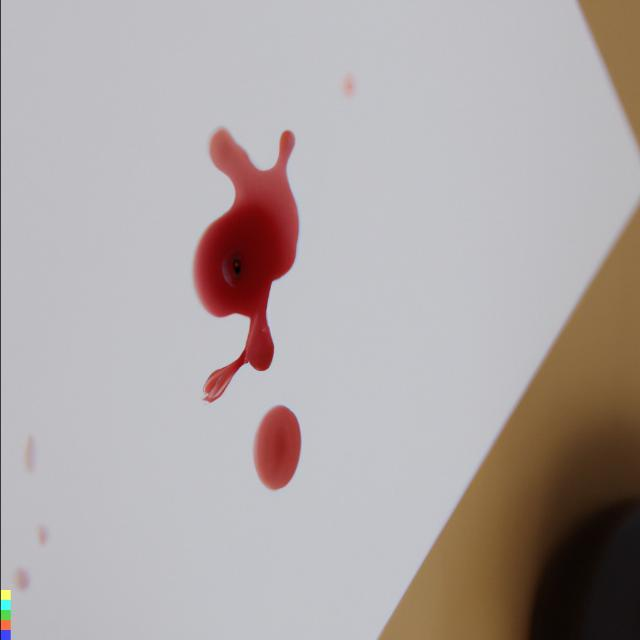blood: (192, 128, 298, 403), (252, 404, 301, 491)
